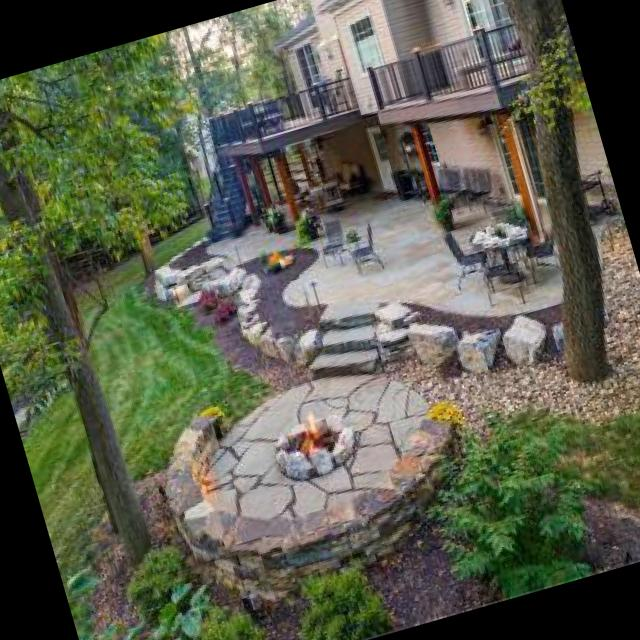fire: (288, 403, 330, 470), (257, 240, 300, 288)
